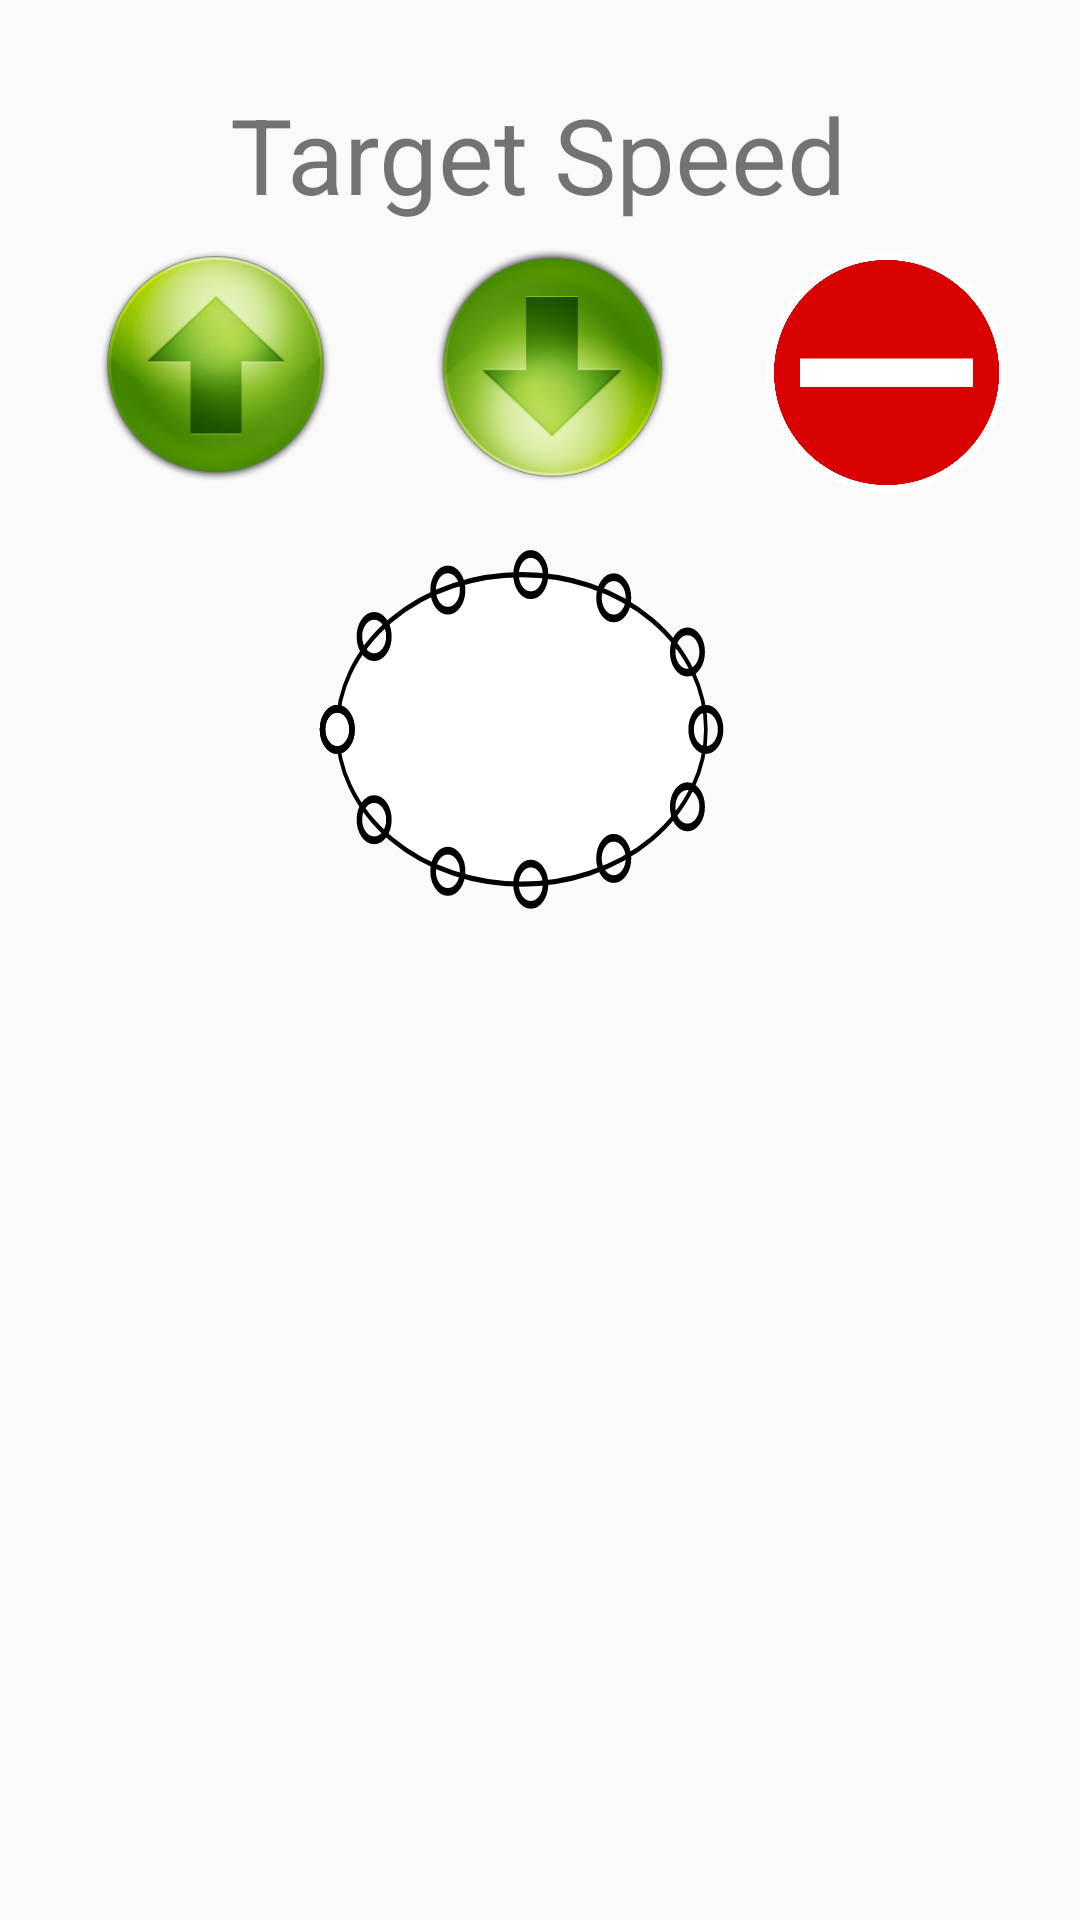

Icons on this 1080px x 1920px Android screen, each with the point to tap as (x,y):
down: (552,365)
emergency break: (886,372)
